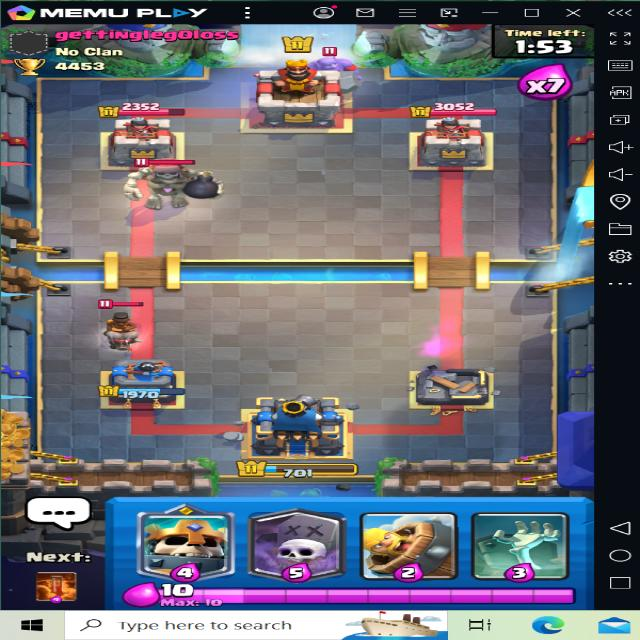bowler: (298, 48, 366, 90)
giant-skeleton: (123, 150, 224, 210)
ram-rider: (93, 296, 158, 350)
